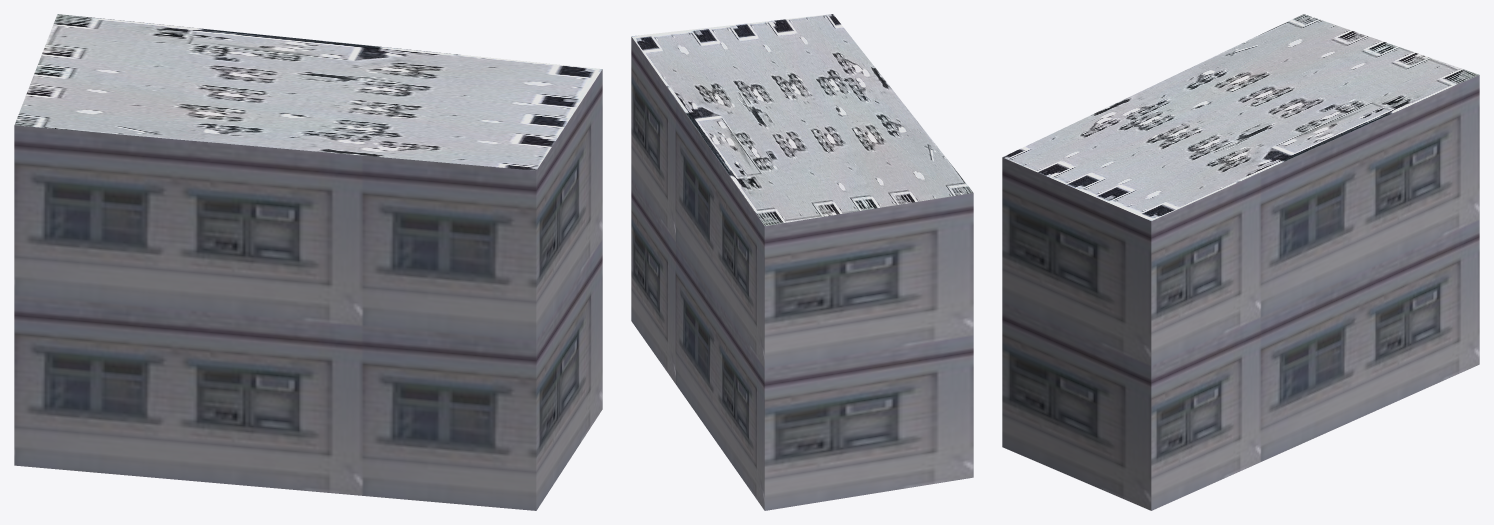
The model's file is ResTex__2869.fbx.
3 views of the same model, side by side, from view 1: azimuth 30°, elevation 25°; view 2: azimuth 150°, elevation 25°; view 3: azimuth 270°, elevation 25° (orthographic). The views are drawn at different scales.
Visible parts, largest first — view 1: CityEngineMaterial_1_m, CityEngineMaterial_8_m; view 2: CityEngineMaterial_1_m, CityEngineMaterial_8_m; view 3: CityEngineMaterial_1_m, CityEngineMaterial_8_m.
Boxes of the visible parts, x1,y1,x2,y2 form: CityEngineMaterial_1_m: [14, 69, 602, 510]; CityEngineMaterial_8_m: [14, 14, 602, 170]; CityEngineMaterial_1_m: [631, 37, 973, 510]; CityEngineMaterial_8_m: [631, 14, 973, 225]; CityEngineMaterial_1_m: [1002, 75, 1479, 510]; CityEngineMaterial_8_m: [1002, 14, 1479, 220].
Bounding box in the file's own units: 9.2 × 6 × 8.96.
2 materials, 2 textured.
